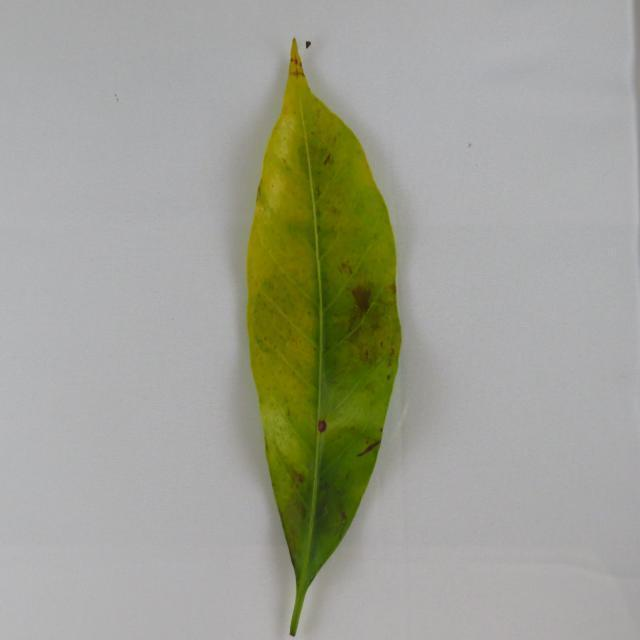DeficienciaNutricional-Nitrogeno: (248, 40, 401, 635)
